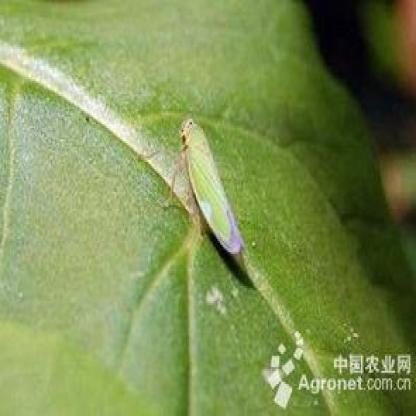Green-Leafhopper: (171, 112, 245, 256)
